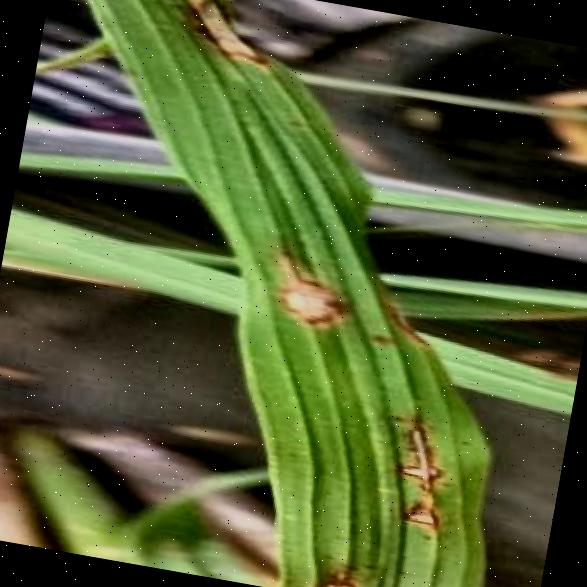Leaf_smut: (218, 249, 488, 532), (306, 545, 388, 587)
